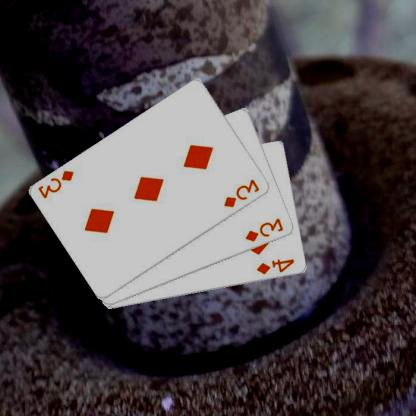3D: (223, 177, 263, 209), (38, 168, 78, 200), (244, 215, 286, 243)
4D: (256, 257, 298, 276)
